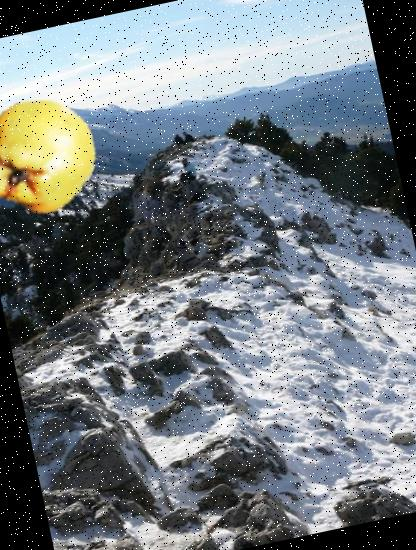Quince: (0, 86, 105, 222)
